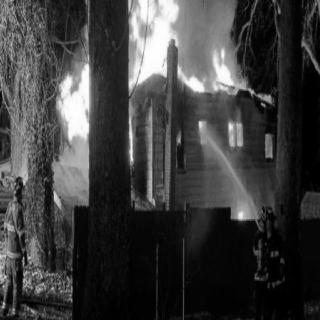Fire: (129, 1, 179, 81), (211, 44, 238, 92)
